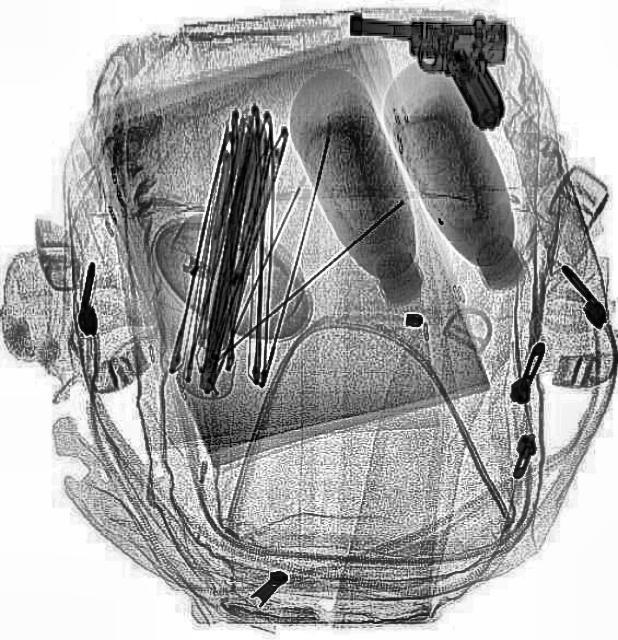Gun: (345, 12, 508, 128)
